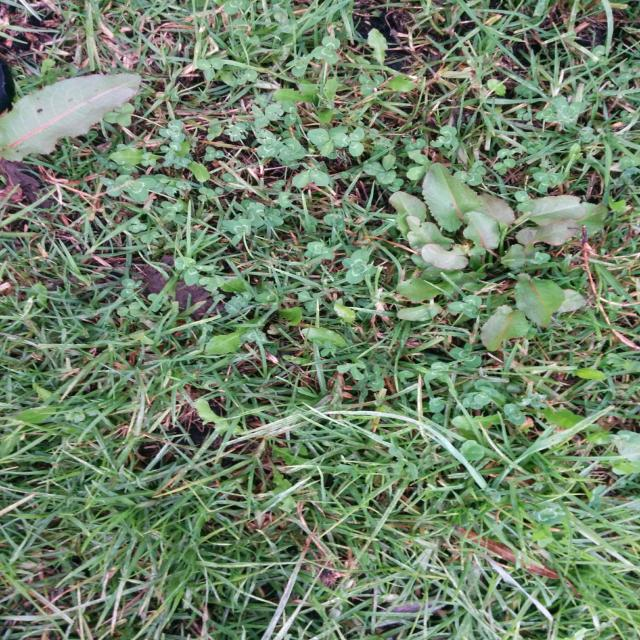Four Leaf Clover: (342, 249, 377, 284)
